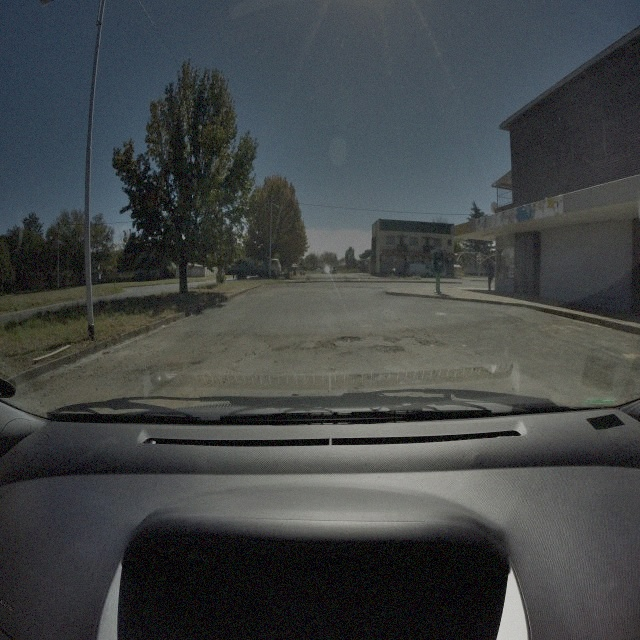pothole: (144, 360, 203, 378), (412, 331, 446, 349), (298, 337, 336, 353), (369, 342, 405, 354), (336, 332, 362, 346), (270, 344, 291, 356)
